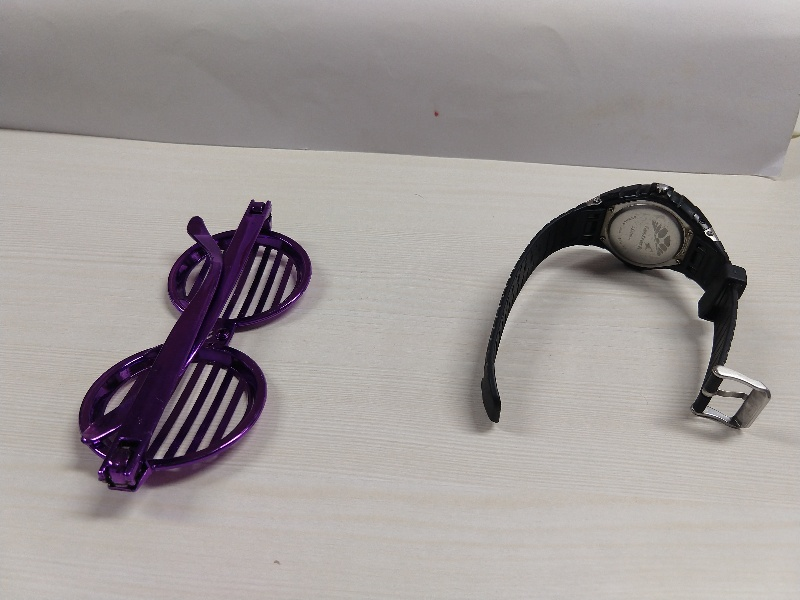shades: (73, 196, 314, 495)
watch: (478, 180, 771, 447)
